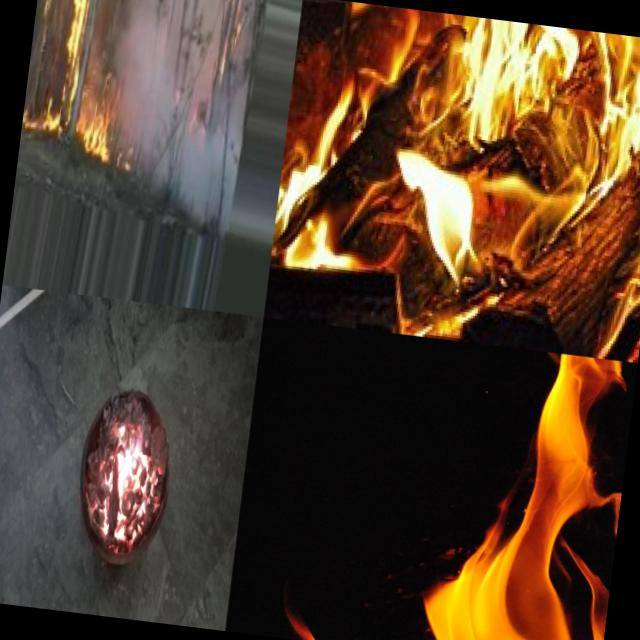fire: (263, 0, 640, 363), (304, 326, 637, 640), (45, 0, 129, 166), (88, 412, 170, 554)
smoke: (99, 0, 258, 213)
